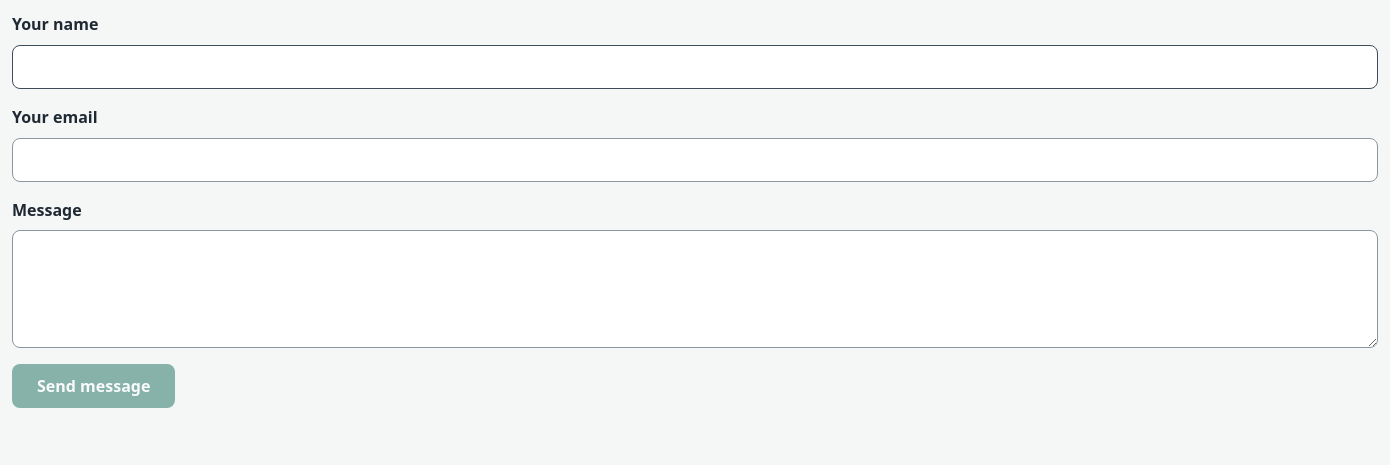
Scenario: ContactForm › shows a plain error and keeps what was typed
The image size is (1390, 465).
Type "Asha" into the field labelled "Your name" at (695, 67), box [12,45,1378,89]
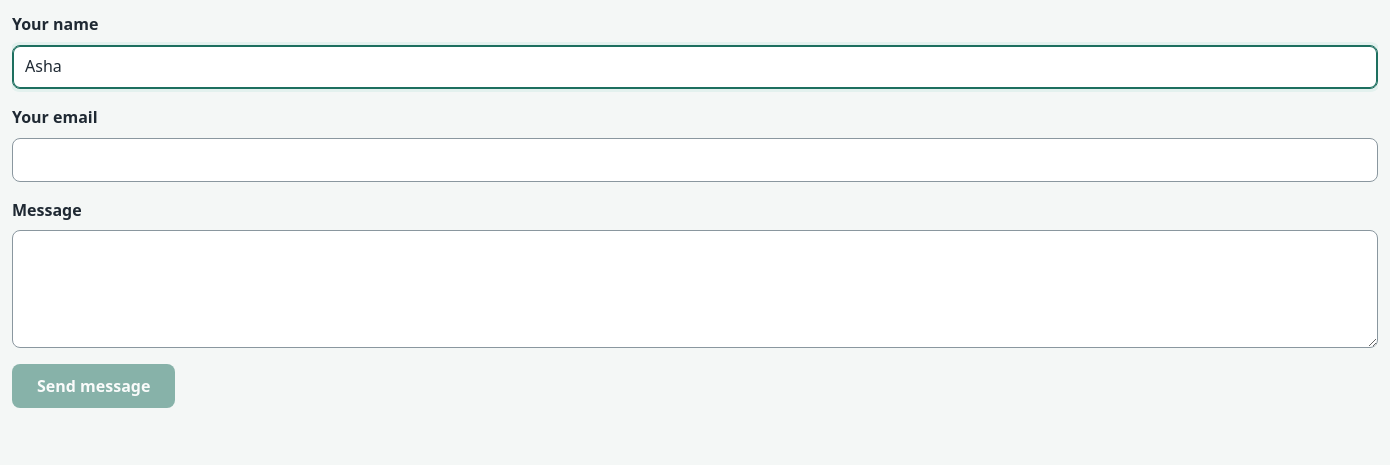
Type "asha@example.com" into the field labelled "Your email" at (695, 160), box [12,138,1378,182]
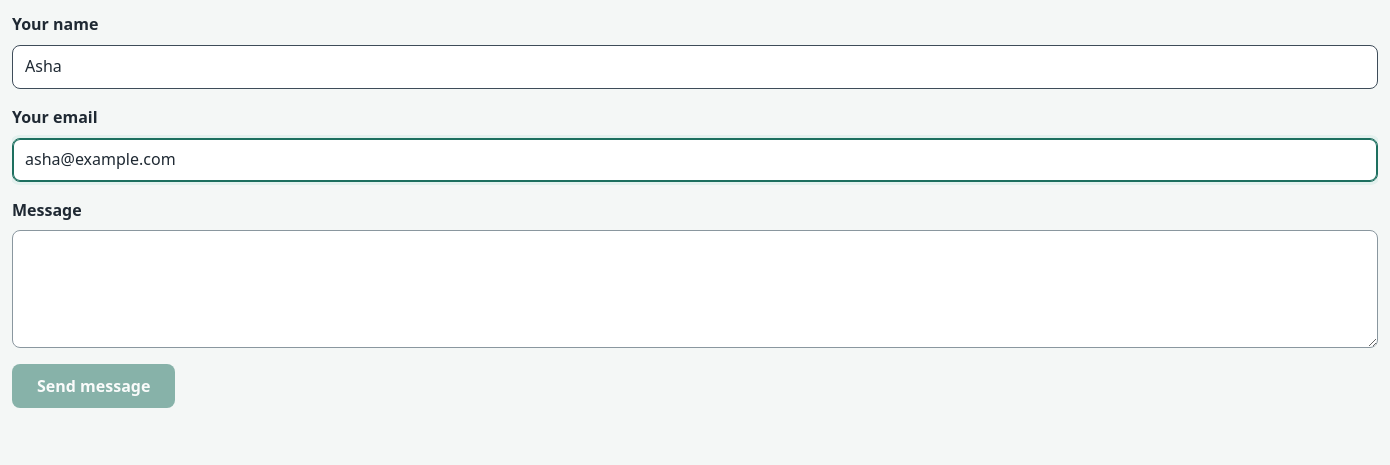
Type "Hello" into the text box labelled "Message" at (695, 289), box [12,230,1378,348]
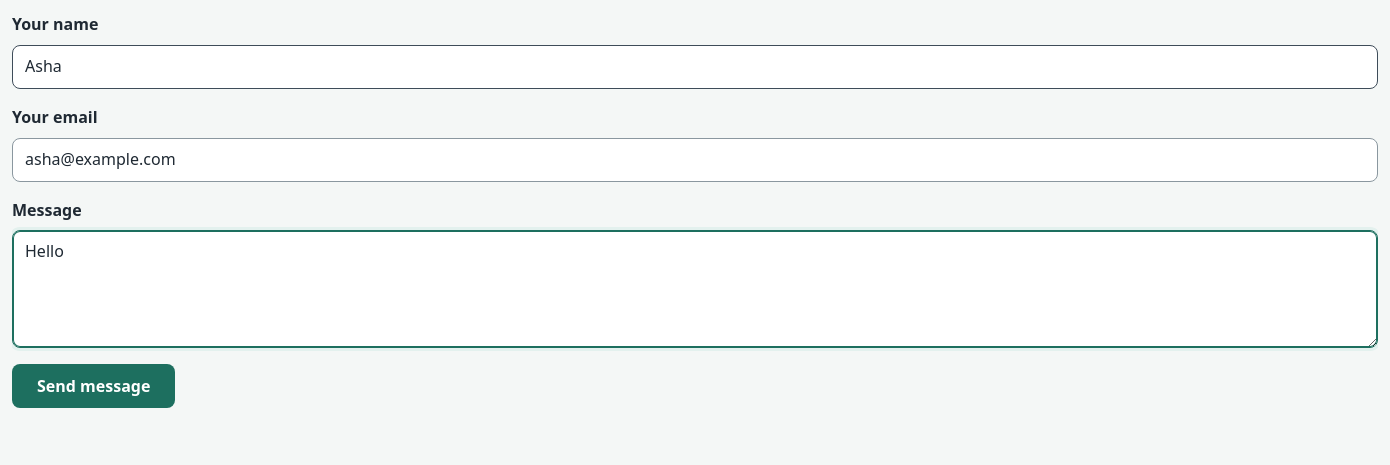
Click the button "Send message" at (94, 386), box [12,364,175,408]
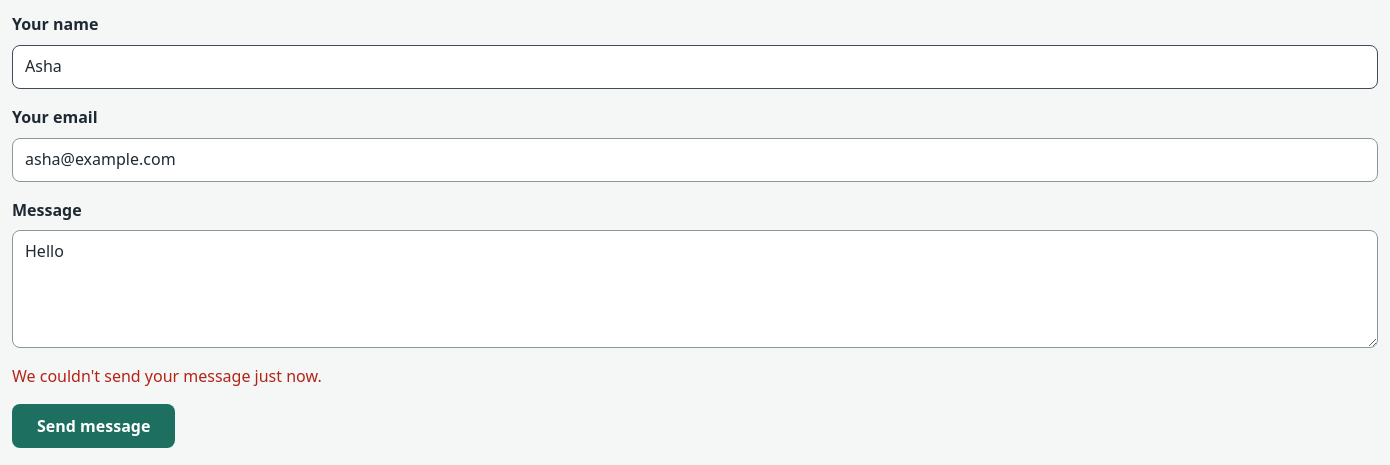
expect the message shows "couldn't send your message": met, box [12,365,322,387]
